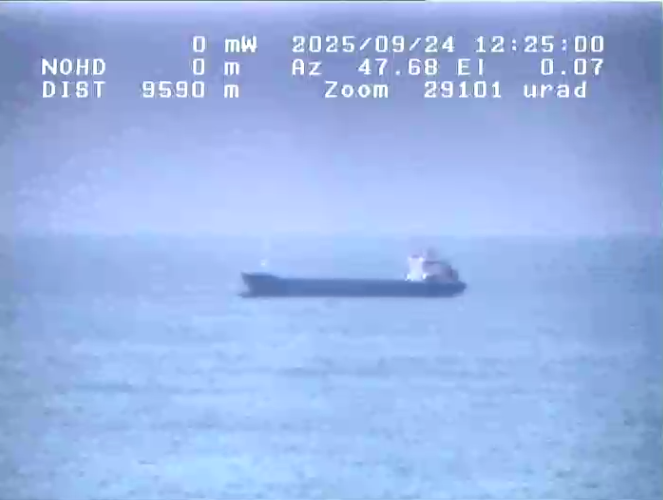TANKER: (204, 224, 499, 323)
